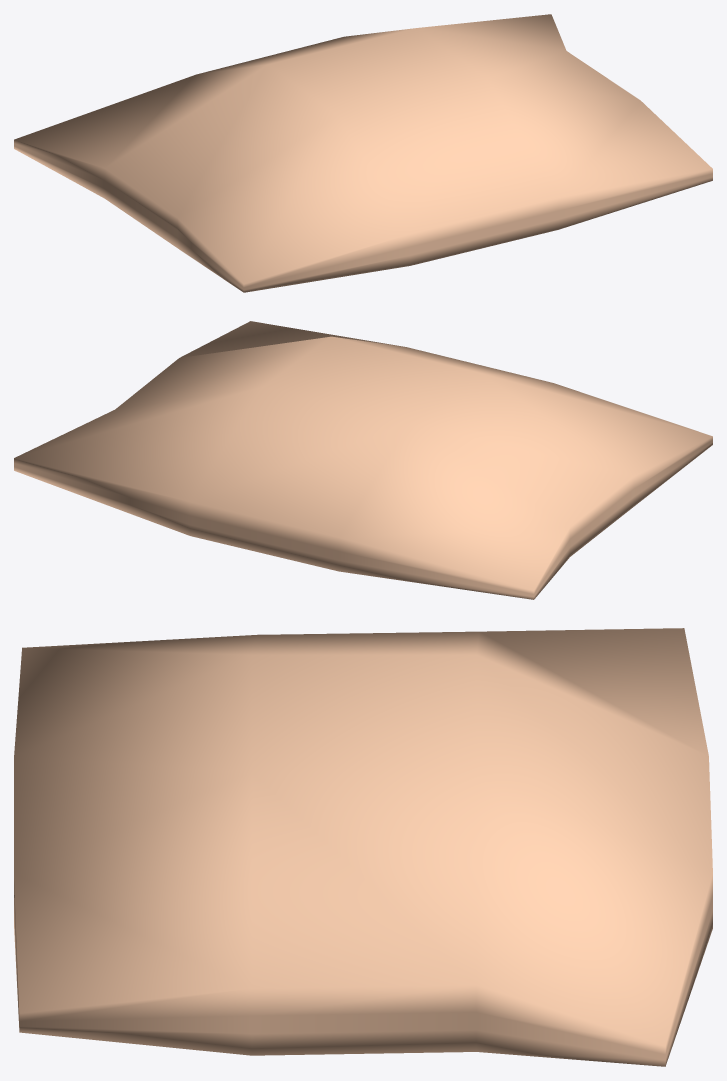
The model's file is Pillow_2.fbx.
3 views of the same model, one above another, from view 1: azimuth 30°, elevation 25°; view 2: azimuth 150°, elevation 25°; view 3: azimuth 270°, elevation 25° (orthographic). The views are drawn at different scales.
Parts seen in each view (by area): view 1: Pillow_2; view 2: Pillow_2; view 3: Pillow_2.
Part boxes in pixels (box(x1,y1,x2,y2)): Pillow_2: box(14, 14, 712, 292); Pillow_2: box(14, 321, 712, 599); Pillow_2: box(14, 628, 712, 1066).
Size of the model in its own units: 81.54 by 19.48 by 57.59.
